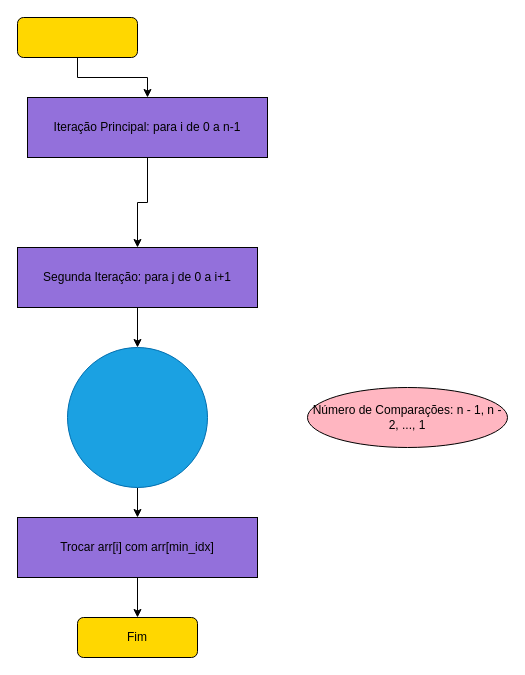
This 525x675 diagram has some shape labels left out. Each missing label, with the box of its shape:
Comparar arr[j] menor que o arr[min_idx]: (66, 346, 208, 488)
Início: (16, 16, 138, 58)
